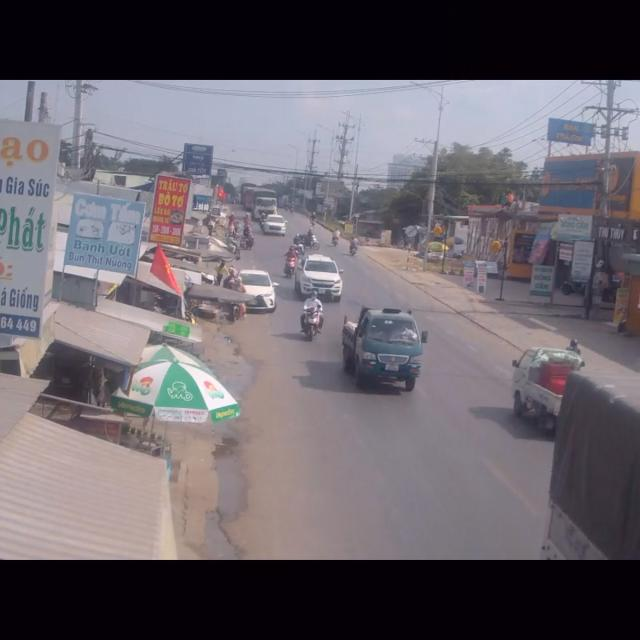car: (294, 255, 342, 305)
motorbike: (300, 289, 326, 341), (284, 241, 296, 277)
truck: (553, 373, 640, 557), (339, 308, 423, 396), (512, 344, 564, 422)
